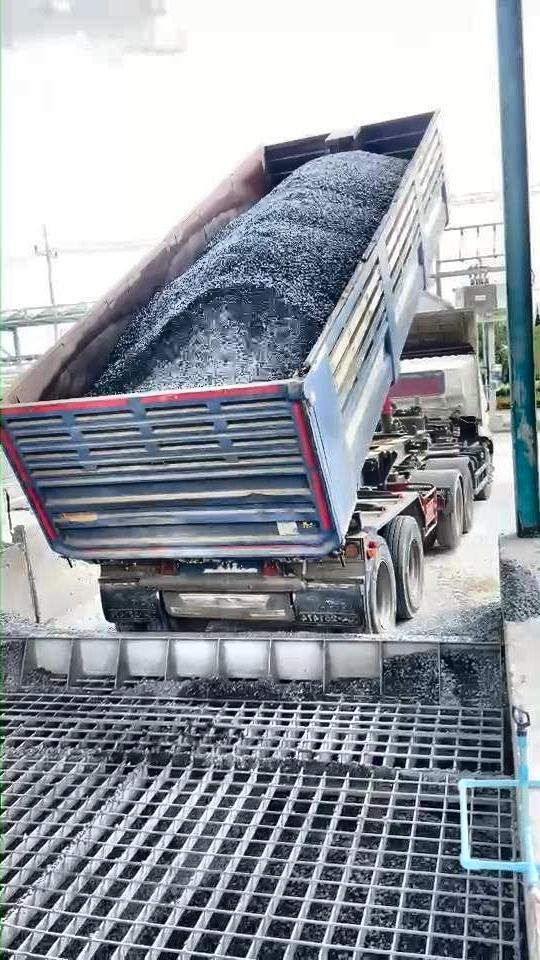gravel: (93, 151, 405, 393), (384, 602, 503, 704), (122, 677, 379, 702), (2, 612, 85, 642), (502, 560, 540, 621), (3, 636, 24, 692)
